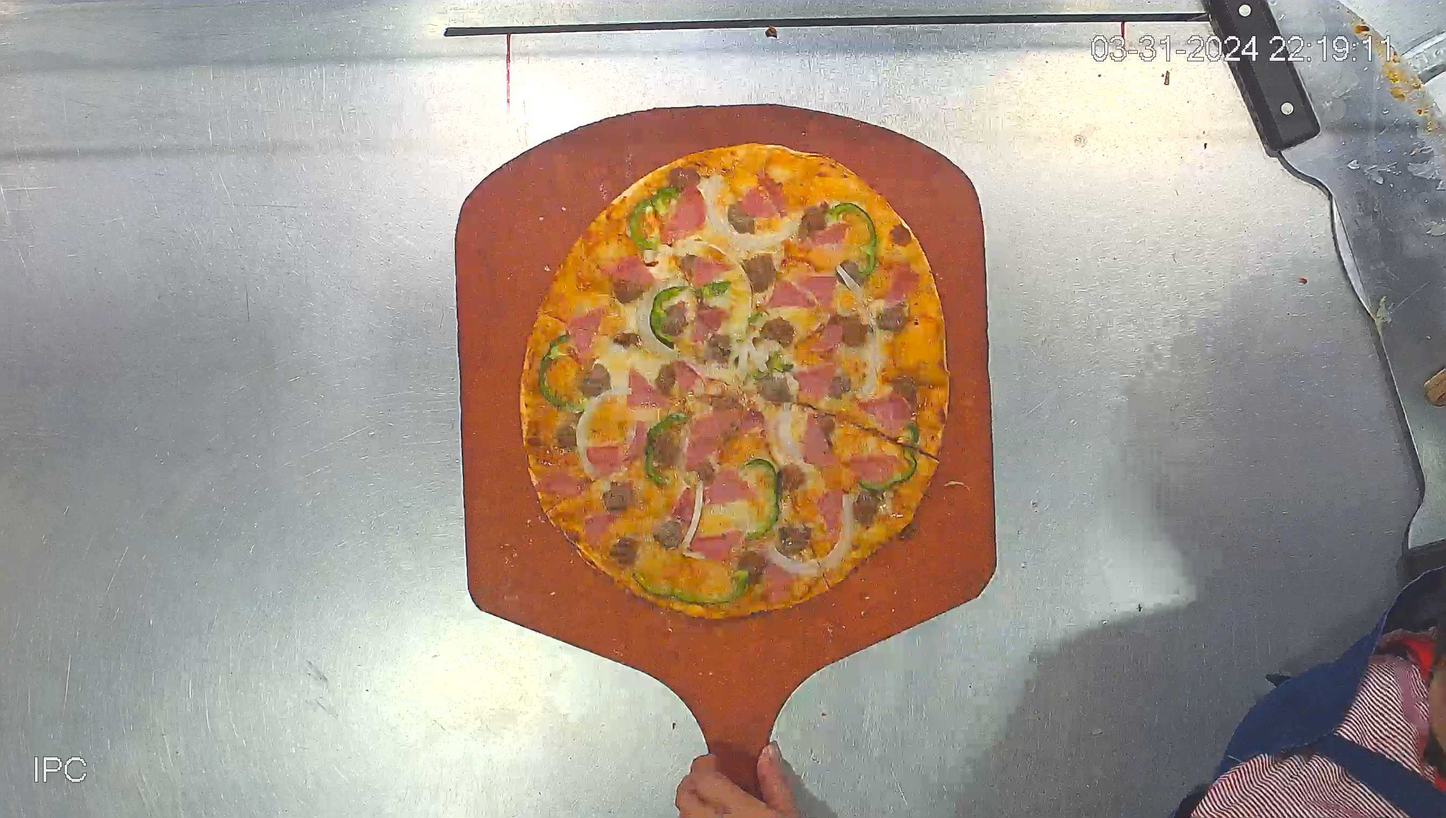hawaiian: (520, 143, 950, 622)
